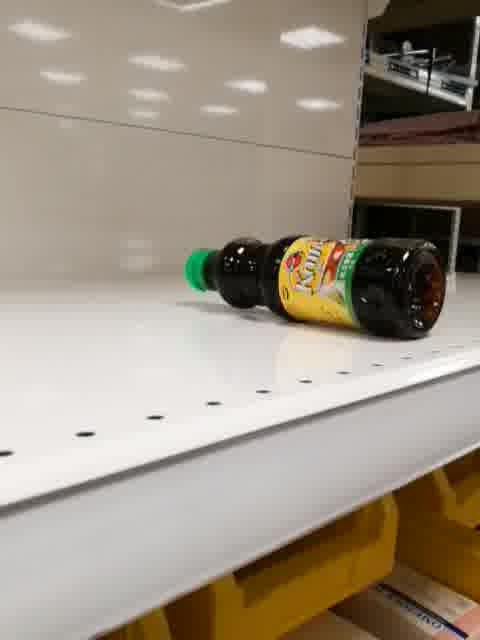cookingoil: (185, 229, 449, 343)
